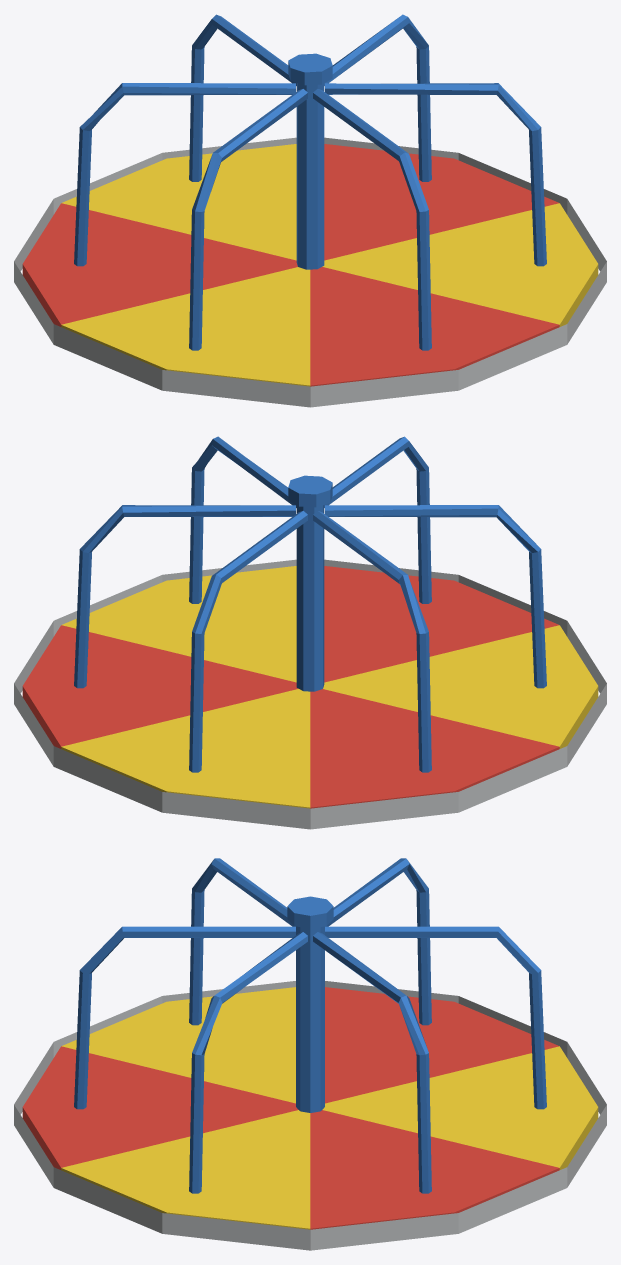
File: spinner.glb
The picture shows the model from 3 angles, top to bottom: view 1: azimuth 30°, elevation 25°; view 2: azimuth 150°, elevation 25°; view 3: azimuth 270°, elevation 25°; orthographic projection.
Visible parts, largest first — view 1: deck; view 2: deck; view 3: deck.
Part boxes in pixels (x1,y1,x2,y2): deck: (14, 14, 606, 407); deck: (14, 436, 606, 829); deck: (14, 858, 606, 1250).
Bounding box in the file's own units: 2.06 × 1.04 × 2.06.
